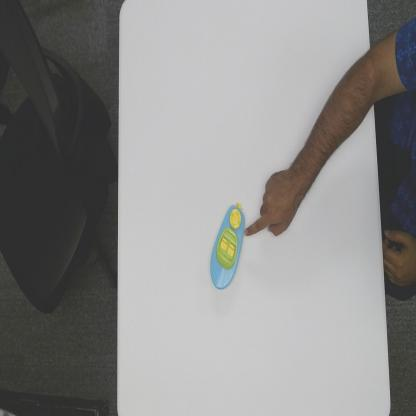Arm: (296, 44, 372, 186)
Boat: (209, 199, 245, 291)
Hand: (244, 168, 303, 240)
